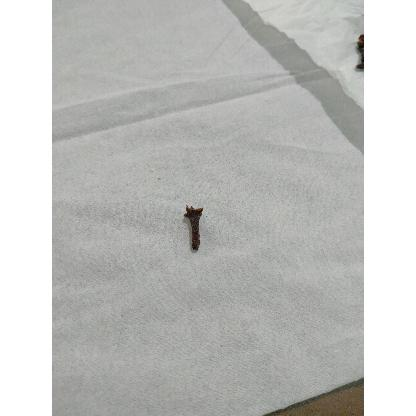buruk: (184, 205, 203, 253)
